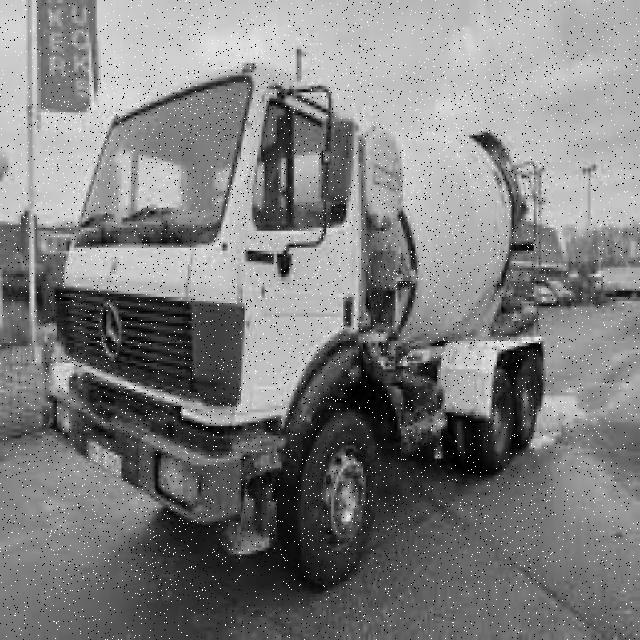Concrete Mixer: (42, 62, 551, 592)
